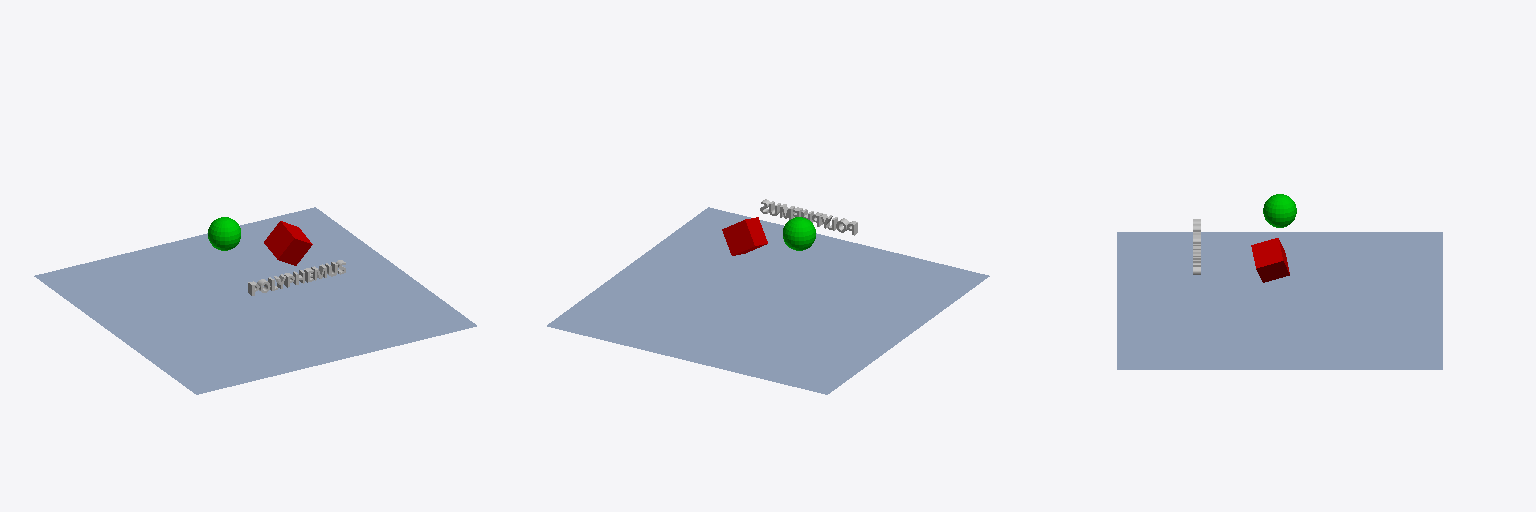
3 renders of one model, left to right at view 1: azimuth 30°, elevation 25°; view 2: azimuth 150°, elevation 25°; view 3: azimuth 270°, elevation 25°, orthographic.
Visible parts, largest first — view 1: Plane, Cube, MoText.1, Sphere; view 2: Plane, Cube, MoText.1, Sphere; view 3: Plane, Cube, Sphere.
Boxes of the visible parts, x1,y1,x2,y2 form: Plane: [34, 207, 476, 394]; Cube: [264, 221, 312, 265]; MoText.1: [248, 260, 345, 295]; Sphere: [208, 217, 240, 250]; Plane: [547, 207, 989, 394]; Cube: [722, 217, 767, 255]; MoText.1: [760, 199, 857, 235]; Sphere: [783, 217, 815, 250]; Plane: [1117, 232, 1442, 369]; Cube: [1251, 238, 1289, 282]; Sphere: [1263, 194, 1296, 227].
Bounding box in the file's own units: 328 × 100 × 328.